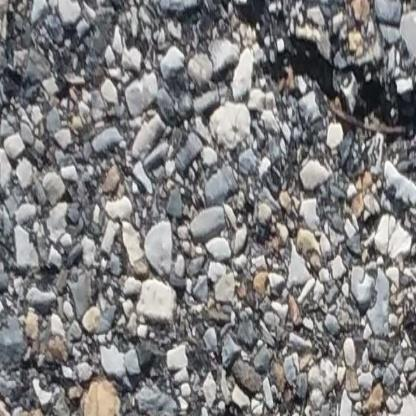Cracks: (211, 0, 416, 148)
